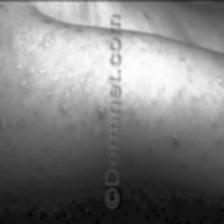Non-Cancerous Skin Condition: (4, 72, 82, 160), (172, 132, 182, 146), (96, 108, 106, 120)
